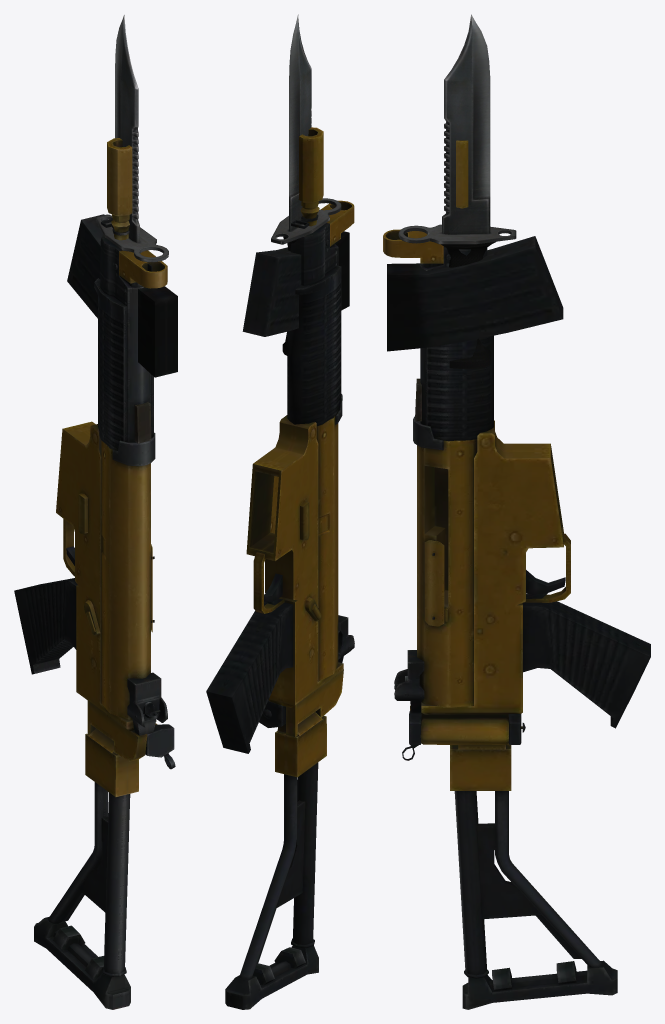
The model's file is Pindad_SS1_R5_Gold.obj.
3 renders of one model, left to right at view 1: azimuth 30°, elevation 25°; view 2: azimuth 150°, elevation 25°; view 3: azimuth 270°, elevation 25°, orthographic. The views are drawn at different scales.
Visible parts, largest first — view 1: SS1_V5_Carbine_LOD0, SS1_V5_Carbine_LOD0_Magazine, M_7; view 2: SS1_V5_Carbine_LOD0, SS1_V5_Carbine_LOD0_Magazine, M_7; view 3: SS1_V5_Carbine_LOD0, SS1_V5_Carbine_LOD0_Magazine, M_7.
Part boxes in pixels (x1=…): SS1_V5_Carbine_LOD0: x1=14, y1=138, x2=175, y2=1009; SS1_V5_Carbine_LOD0_Magazine: x1=67, y1=214, x2=177, y2=377; M_7: x1=96, y1=15, x2=168, y2=262; SS1_V5_Carbine_LOD0: x1=206, y1=127, x2=354, y2=1009; SS1_V5_Carbine_LOD0_Magazine: x1=242, y1=231, x2=349, y2=336; M_7: x1=271, y1=14, x2=341, y2=356; SS1_V5_Carbine_LOD0: x1=383, y1=140, x2=650, y2=1009; SS1_V5_Carbine_LOD0_Magazine: x1=387, y1=236, x2=563, y2=351; M_7: x1=398, y1=14, x2=516, y2=369.
Bounding box in the file's own units: 0.0408 × 0.8208 × 0.2004.
Materials: 2 (2 with a texture image).
